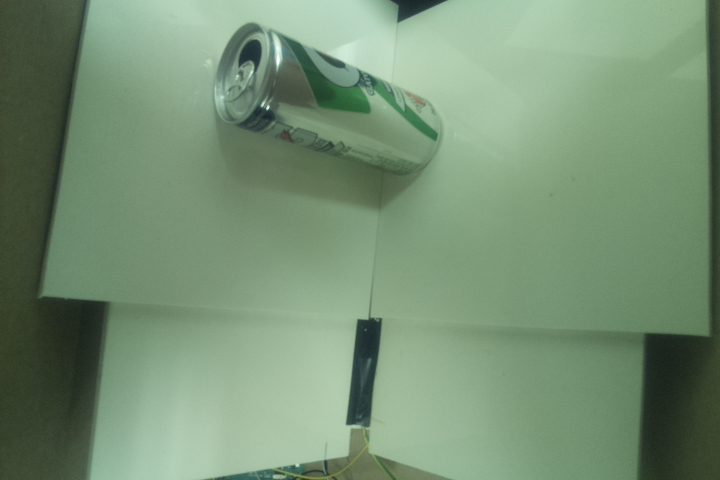can: (210, 20, 445, 178)
